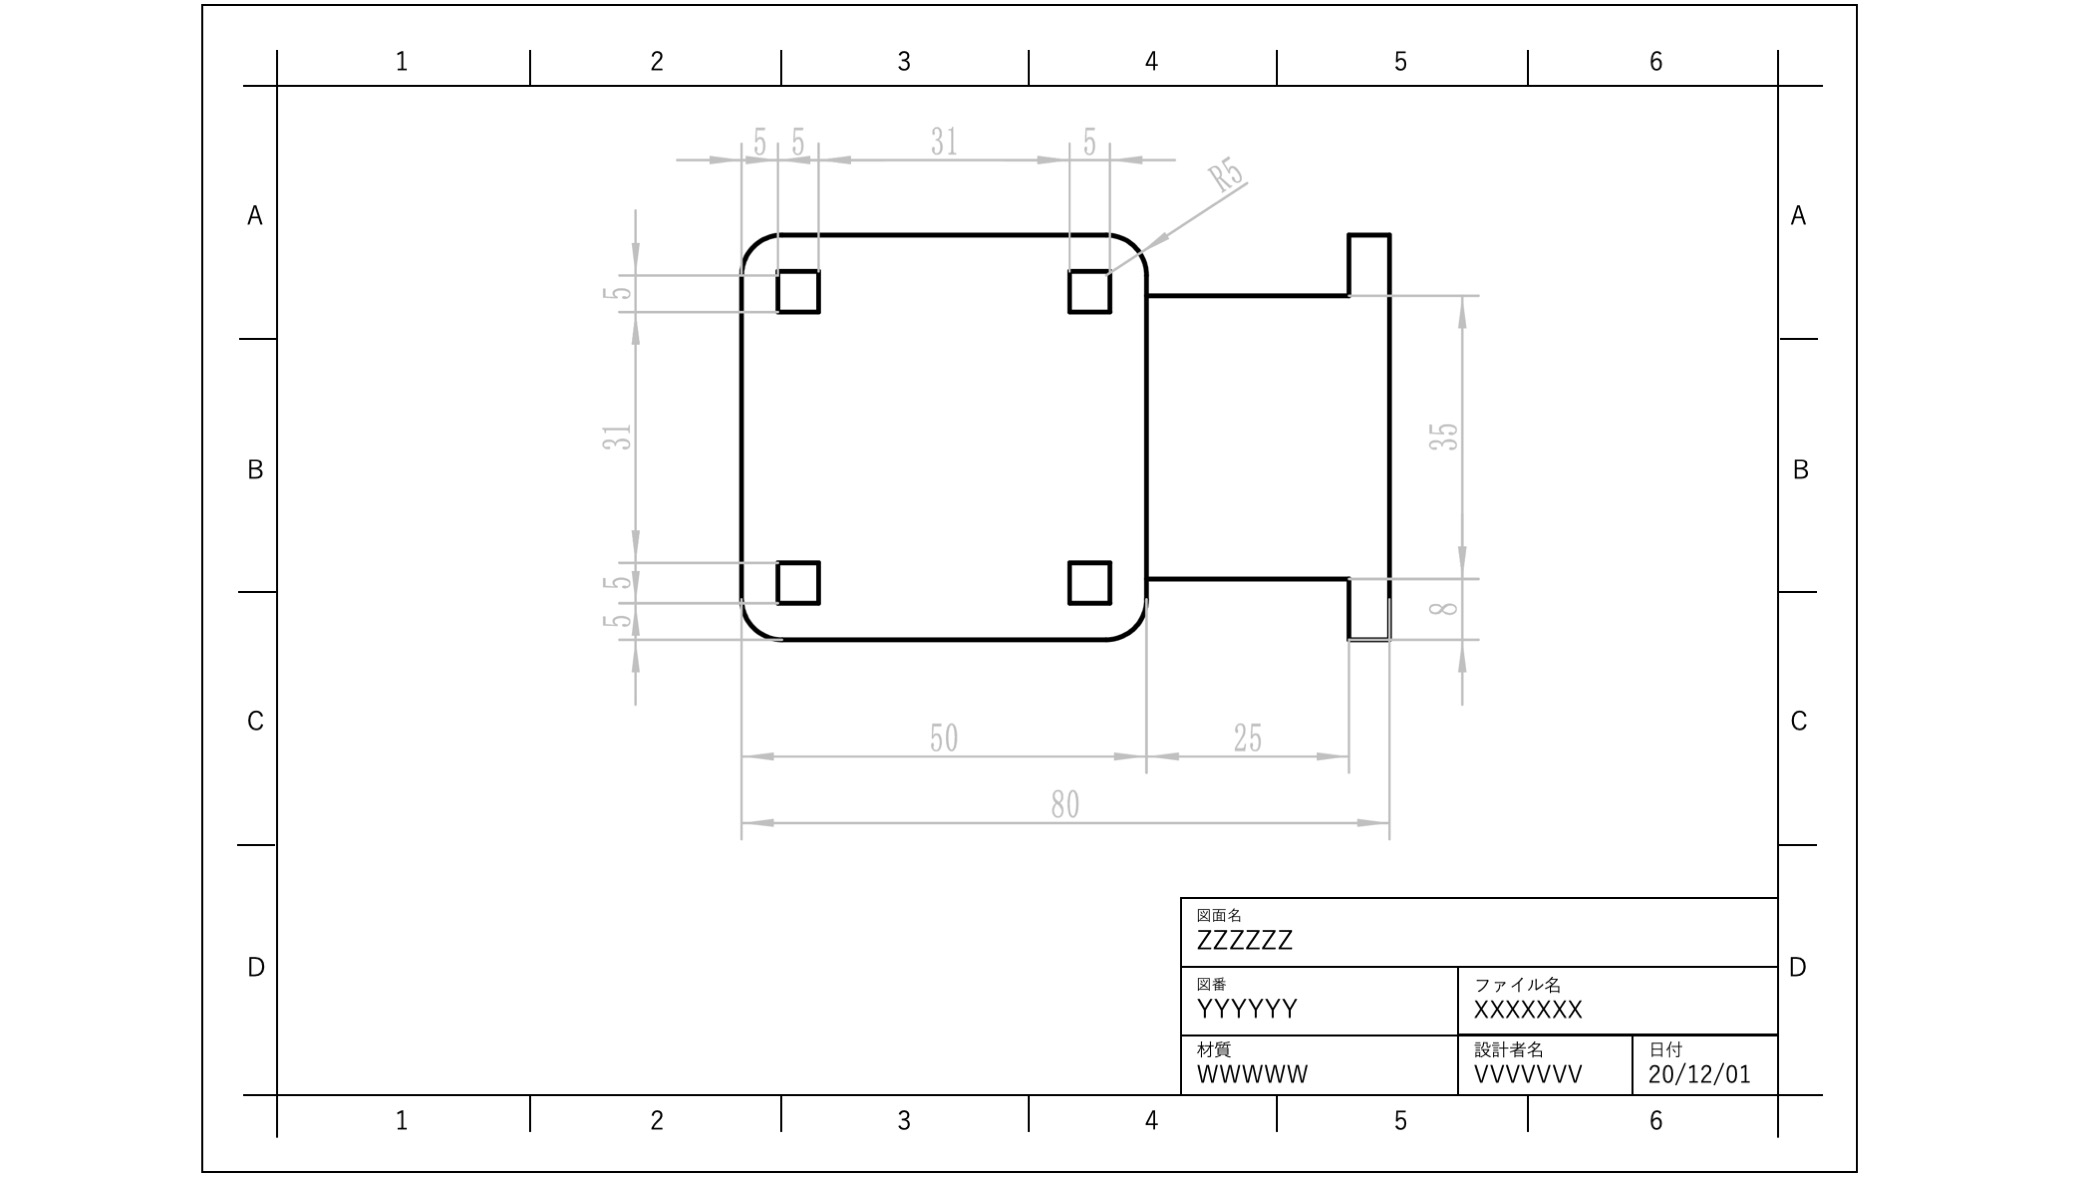rectangle: (762, 542, 831, 616), (762, 252, 832, 320), (1051, 549, 1121, 609), (1059, 257, 1122, 319)
